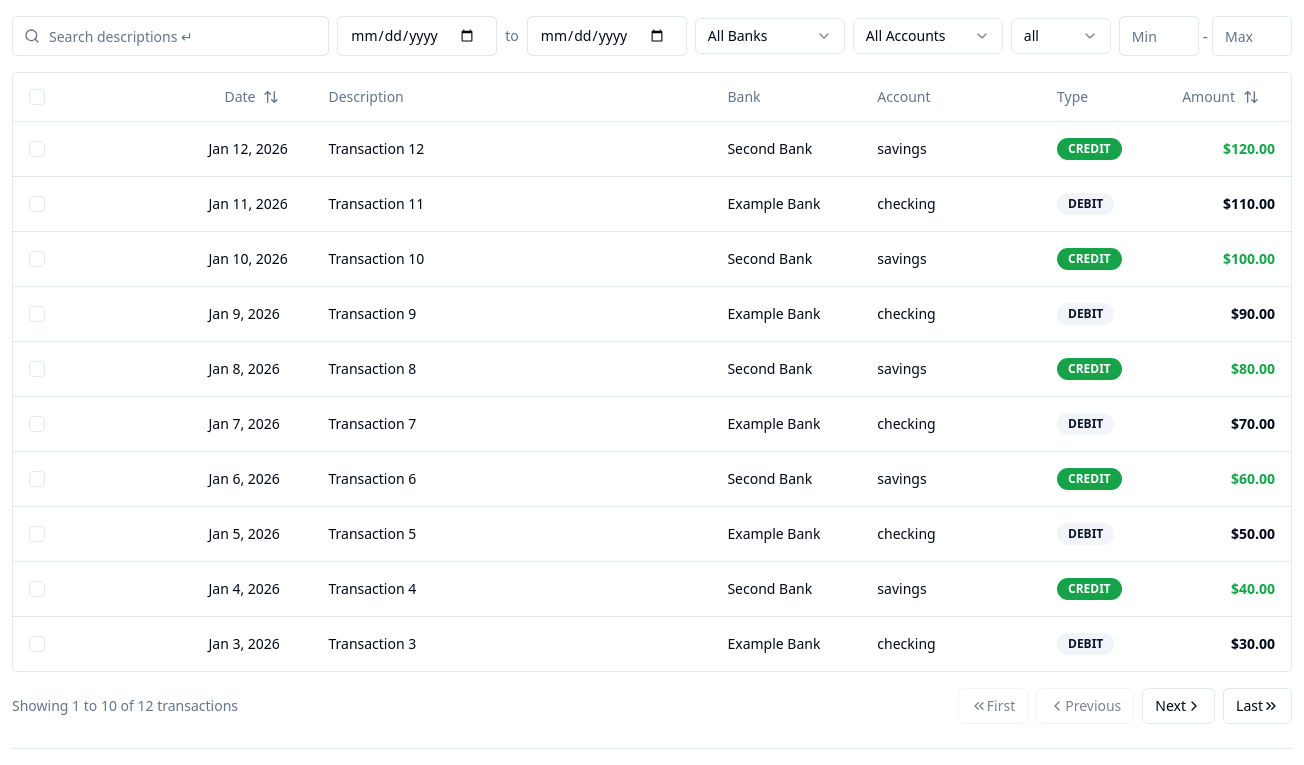
ViewTransactionPicker › starts with blank local filters and presents the complete supplied snapshot
The width and height of the screenshot is (1304, 765).
Expected: the field with placeholder "Search descriptions ↵" is empty, x1=12 y1=16 x2=329 y2=56
Expected: the date field with placeholder "From date" is empty, x1=337 y1=16 x2=497 y2=56
Click the button "Next".
click(1179, 706)  # box x1=1142 y1=688 x2=1215 y2=724
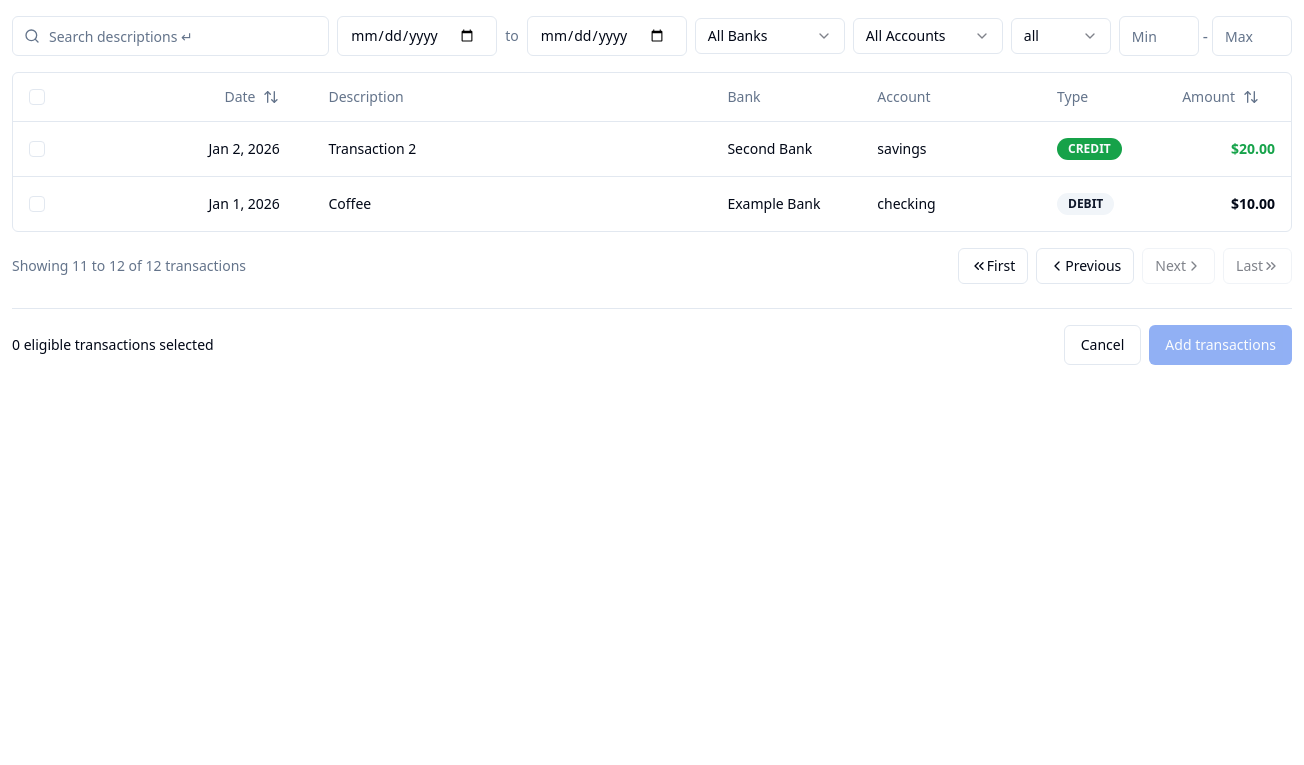
Expected: the text "Showing 11 to 12 of 12 transactions" is shown, x1=12 y1=256 x2=246 y2=276
Expected: the text "Coffee" is shown, x1=328 y1=194 x2=371 y2=212
